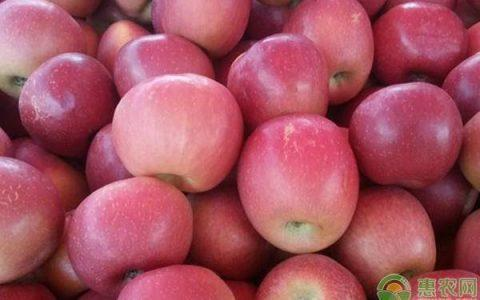apple: (237, 114, 362, 251), (113, 74, 242, 193), (65, 177, 192, 295), (351, 83, 465, 190), (337, 186, 440, 286), (18, 52, 116, 154), (228, 32, 332, 124), (287, 1, 375, 104), (1, 1, 86, 97), (1, 155, 62, 285), (373, 3, 470, 83), (252, 252, 366, 299)
